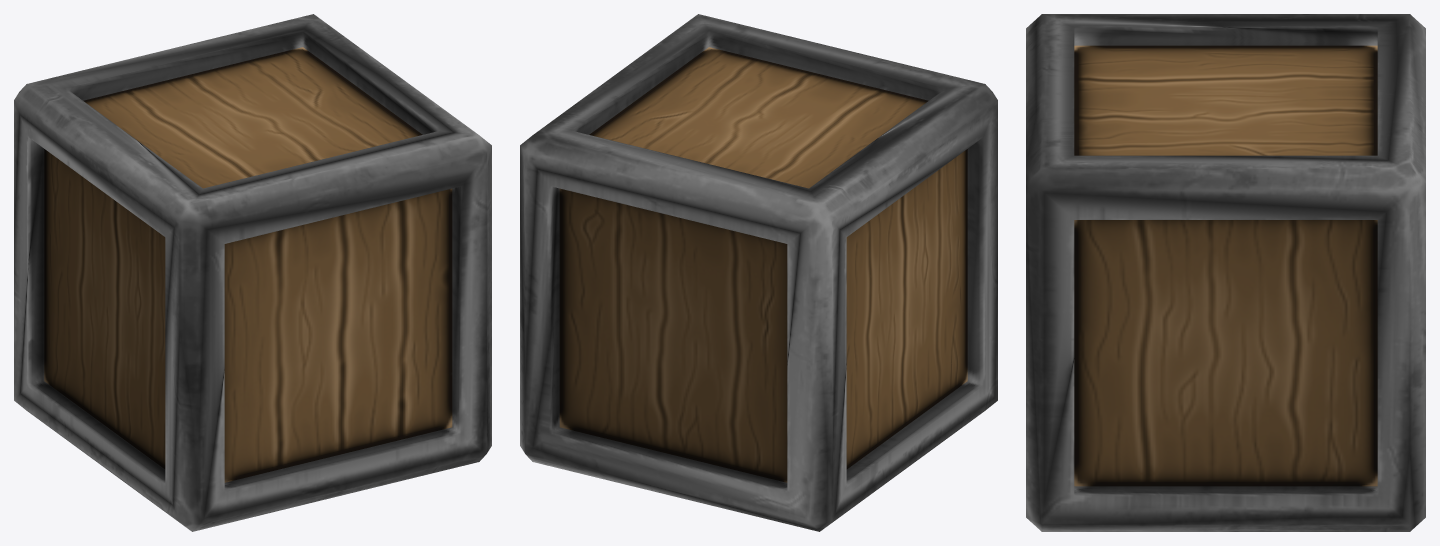
Rendered from MarshCrate_a01.fbx.
The picture shows the model from 3 angles, left to right: view 1: azimuth 30°, elevation 25°; view 2: azimuth 150°, elevation 25°; view 3: azimuth 270°, elevation 25°; orthographic projection. The views are drawn at different scales.
Visible parts, largest first — view 1: Crate_a01; view 2: Crate_a01; view 3: Crate_a01.
Part boxes in pixels (left/top/right/bottom): Crate_a01: left=14, top=14, right=491, bottom=531; Crate_a01: left=520, top=14, right=997, bottom=531; Crate_a01: left=1026, top=14, right=1425, bottom=531.
Bounding box in the file's own units: 124 × 124 × 124.
